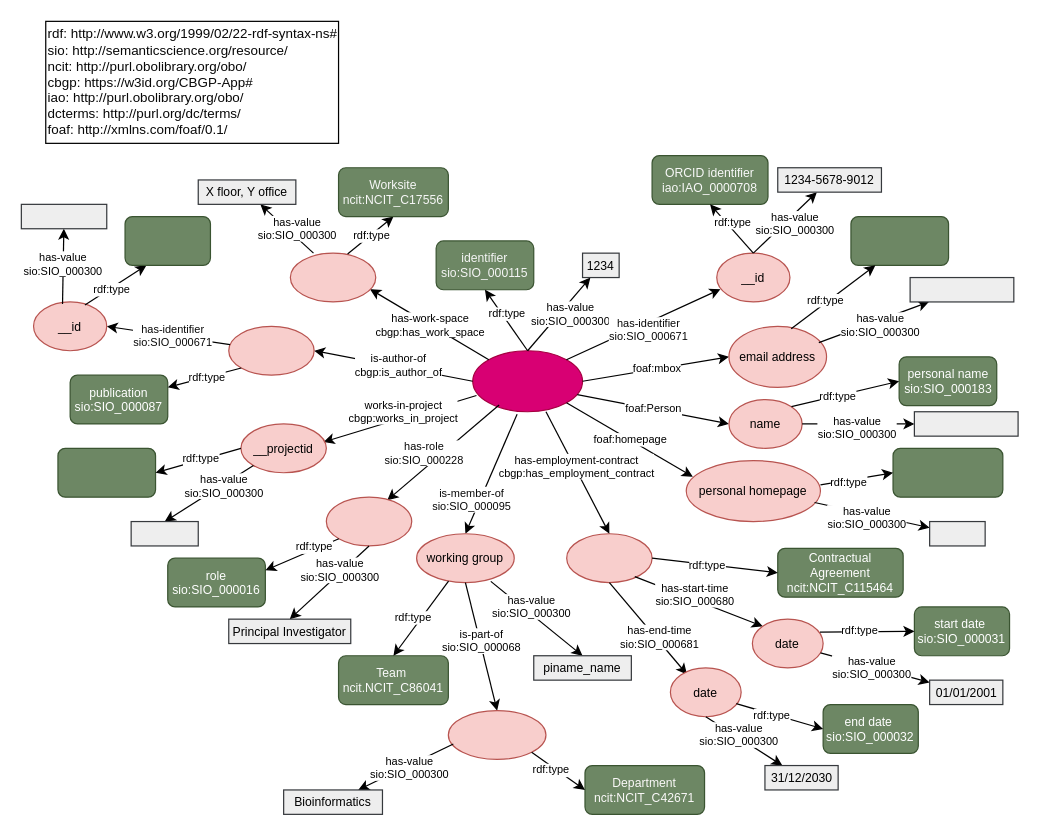
Image size: 1039x836. Some labels were removed from this diagram. Here are the shapes that lost their labels. From the top down, the centre of each, then its label:
At point 63,216: "10.12345/abc".
At point 167,240: "digital object identifier (doi) dcterms:doi".
At point 899,240: "email address sio: SIO_001323".
At point 332,277: "work space".
At point 961,289: "abc.def@upm.es".
At point 271,350: "publication".
At point 527,381: "__workerid".
At point 965,423: "Pepe Pérez Pérez".
At point 106,472: "Project ncit:NCIT_C47885".
At point 947,472: "Home Page ncit: NCIT_C19467".
At point 164,533: "123abc".
At point 368,521: "role".
At point 956,533: "abc123".
At point 608,558: "contract".
At point 496,734: "department".
